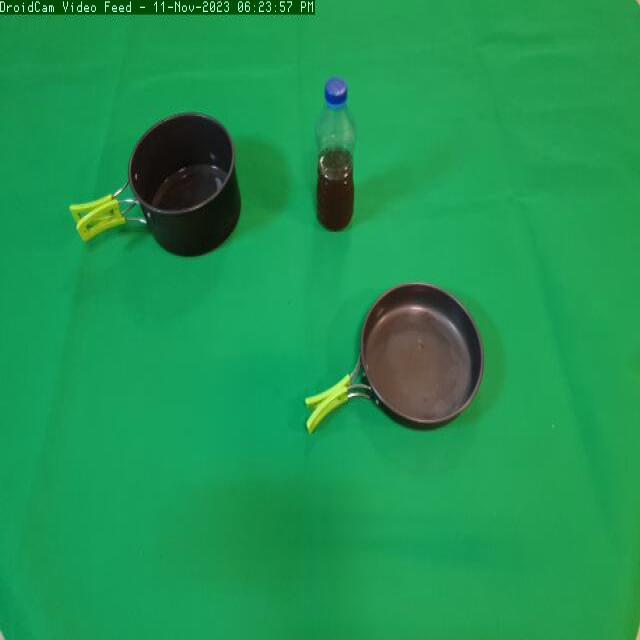fullbottle: (311, 69, 371, 243)
pan: (301, 274, 497, 448)
pot: (62, 108, 246, 271)
